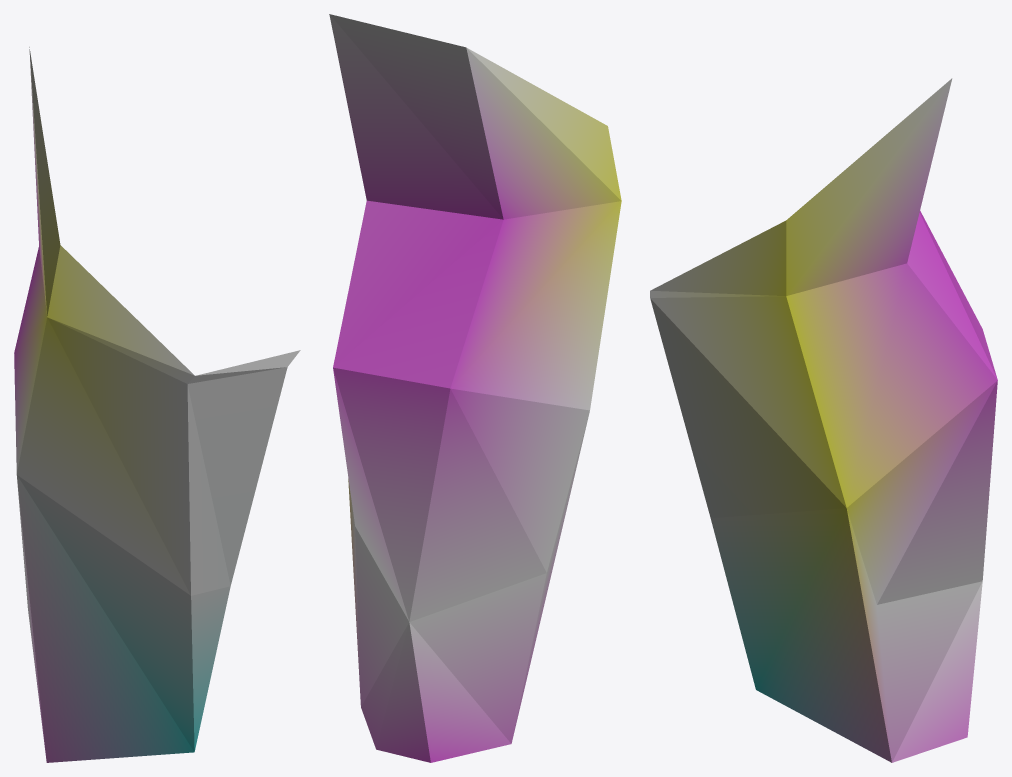
3 views of the same model, side by side, from view 1: azimuth 30°, elevation 25°; view 2: azimuth 150°, elevation 25°; view 3: azimuth 270°, elevation 25° (orthographic). The views are drawn at different scales.
Parts seen in each view (by area): view 1: model_116B; view 2: model_116B; view 3: model_116B.
Part boxes in pixels (x1,y1,x2,y2): model_116B: [14, 47, 300, 762]; model_116B: [329, 14, 621, 762]; model_116B: [650, 78, 997, 762].
Bounding box in the file's own units: 18 × 50 × 23.
